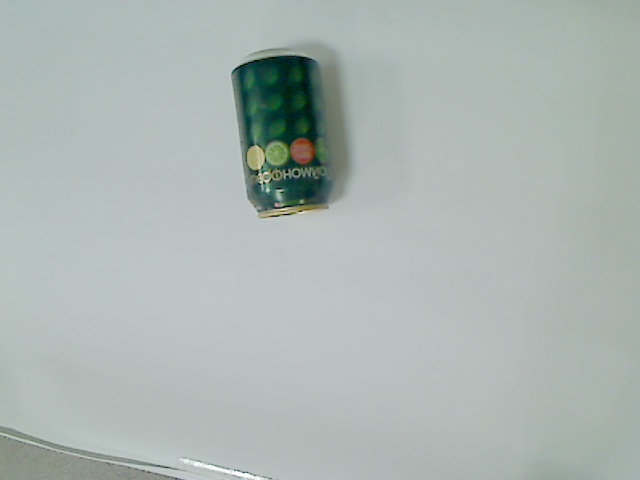can: (230, 45, 334, 220)
